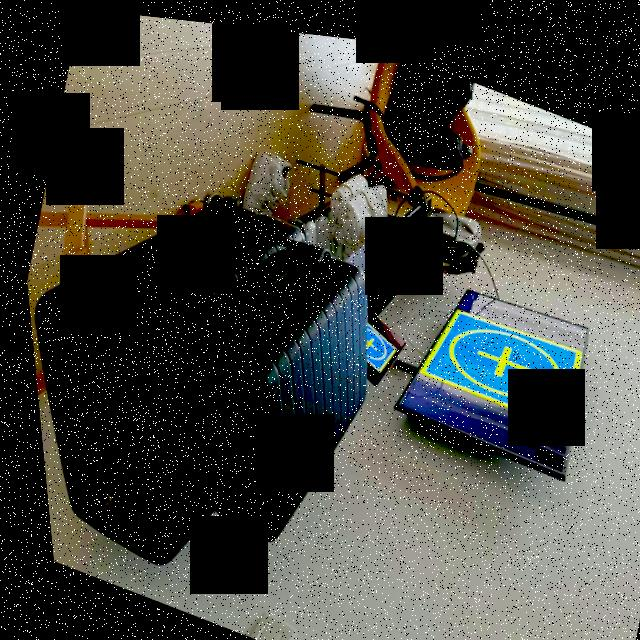Marker: (405, 282, 583, 421), (346, 312, 395, 368)
